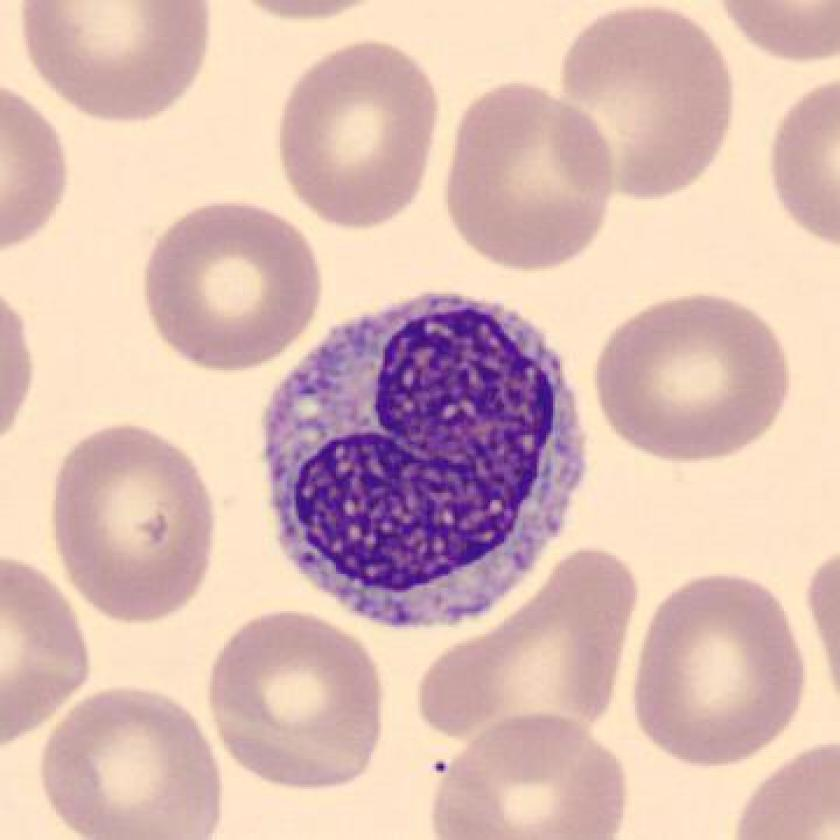monocyte: (234, 267, 608, 649)
